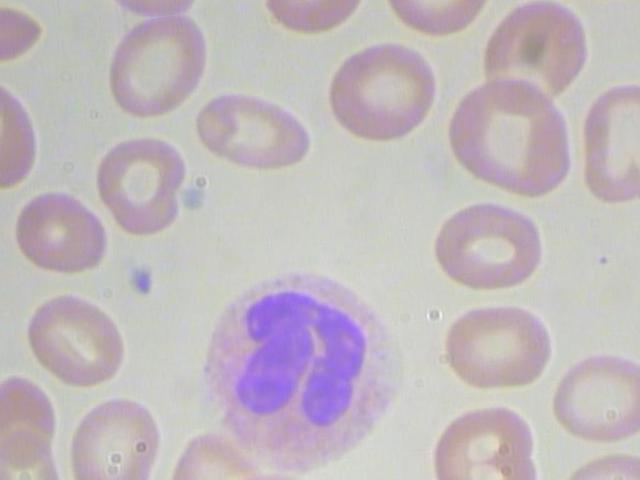Platelets: (438, 72, 579, 210)
RBC: (423, 188, 555, 303), (431, 288, 563, 403), (184, 70, 316, 184), (318, 35, 450, 149), (74, 126, 205, 239), (86, 12, 218, 124), (22, 283, 133, 395), (8, 176, 109, 285), (544, 344, 640, 455), (56, 388, 164, 480), (75, 0, 206, 23)
WBC: (116, 263, 159, 301)
